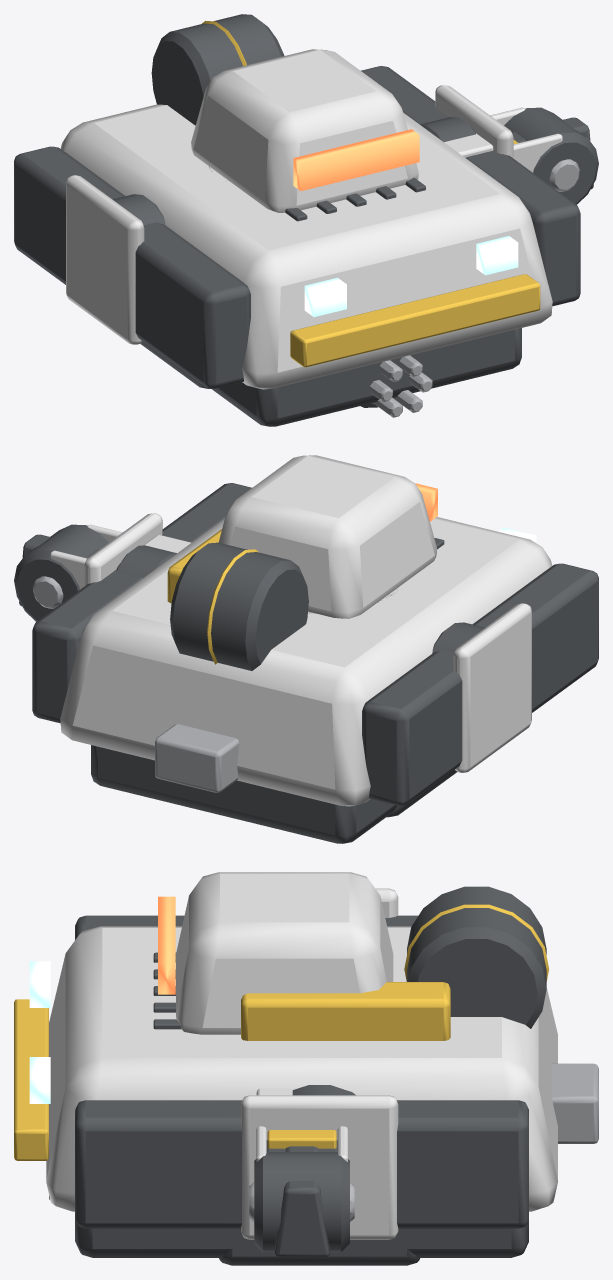
File: auto.glb
3 views of the same model, one above another, from view 1: azimuth 30°, elevation 25°; view 2: azimuth 150°, elevation 25°; view 3: azimuth 270°, elevation 25° (orthographic). The views are drawn at different scales.
Parts seen in each view (by area): view 1: Hull, Turret, LegUpper, Barrel; view 2: Hull, Turret, LegUpper; view 3: Hull, Turret, LegUpper, LegLower.
Part boxes in pixels (<box>): Hull: <box>14,14,580,426</box>; Turret: <box>191,49,419,212</box>; LegUpper: <box>444,107,598,204</box>; Barrel: <box>360,355,432,417</box>; Hull: <box>32,483,598,843</box>; Turret: <box>167,455,437,618</box>; LegUpper: <box>14,524,191,621</box>; Hull: <box>14,886,598,1265</box>; Turret: <box>158,872,450,1040</box>; LegUpper: <box>249,1088,354,1252</box>; LegLower: <box>267,1130,336,1256</box>.
Size of the model in its own units: 0.726 by 0.395 by 0.67.
